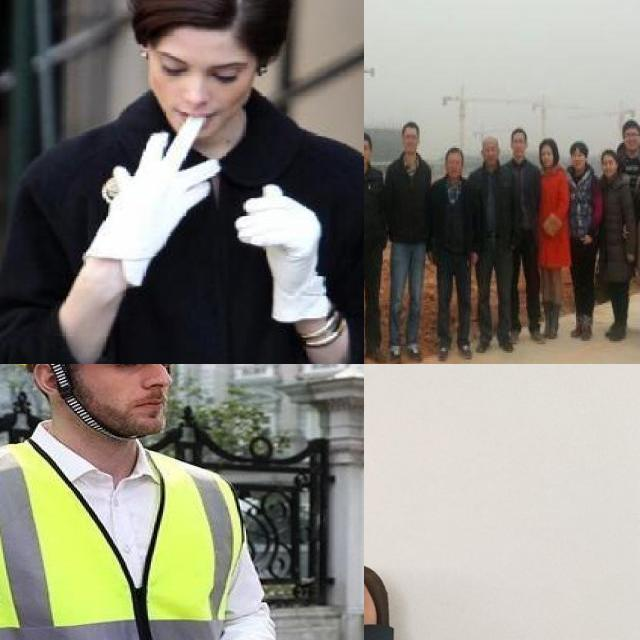No_Glasses: (145, 39, 245, 99)
face_nomask: (143, 36, 256, 149), (103, 364, 179, 435), (510, 136, 528, 156), (483, 145, 499, 166), (623, 129, 640, 148), (447, 156, 462, 176), (404, 132, 418, 153), (601, 157, 616, 176), (572, 151, 588, 167), (540, 148, 554, 164), (364, 141, 371, 163)
hand_glove: (103, 135, 222, 266), (236, 183, 322, 292)
head_nohelmet: (117, 0, 294, 66), (620, 118, 640, 134), (446, 144, 464, 160), (538, 136, 556, 152), (509, 125, 528, 140), (482, 135, 499, 151), (400, 120, 420, 133), (570, 140, 587, 154), (600, 148, 616, 160), (364, 131, 370, 144)
person: (0, 0, 364, 364), (0, 364, 288, 640), (383, 120, 435, 364), (427, 140, 478, 364), (470, 132, 520, 360), (498, 124, 544, 350), (530, 131, 574, 346), (590, 146, 635, 350), (564, 138, 601, 346), (364, 132, 389, 364)
shoes: (544, 303, 565, 342), (602, 318, 628, 343), (406, 338, 430, 364), (574, 314, 596, 340), (495, 329, 517, 353), (525, 317, 545, 343), (364, 342, 387, 364), (385, 342, 407, 364), (456, 336, 476, 360), (434, 340, 455, 362), (570, 312, 585, 340), (476, 332, 496, 352)
vest: (0, 448, 254, 640)
